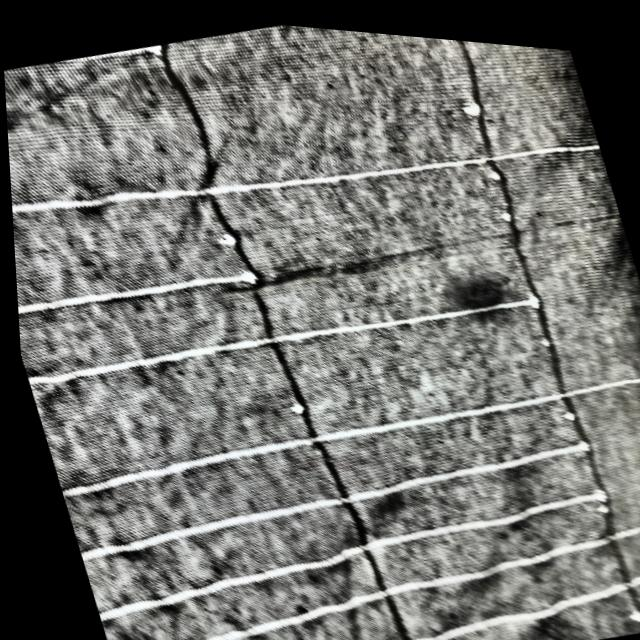Hole: (436, 256, 519, 326), (276, 373, 327, 419), (450, 84, 485, 115), (211, 219, 245, 246), (529, 319, 559, 348), (493, 188, 519, 219), (615, 593, 640, 620), (583, 489, 611, 511), (553, 397, 582, 417), (485, 158, 507, 178)
Stitch: (41, 306, 640, 551), (57, 382, 610, 606), (72, 435, 627, 640), (79, 442, 640, 640), (14, 236, 550, 428), (207, 510, 640, 640), (11, 242, 269, 351), (24, 29, 181, 103)
